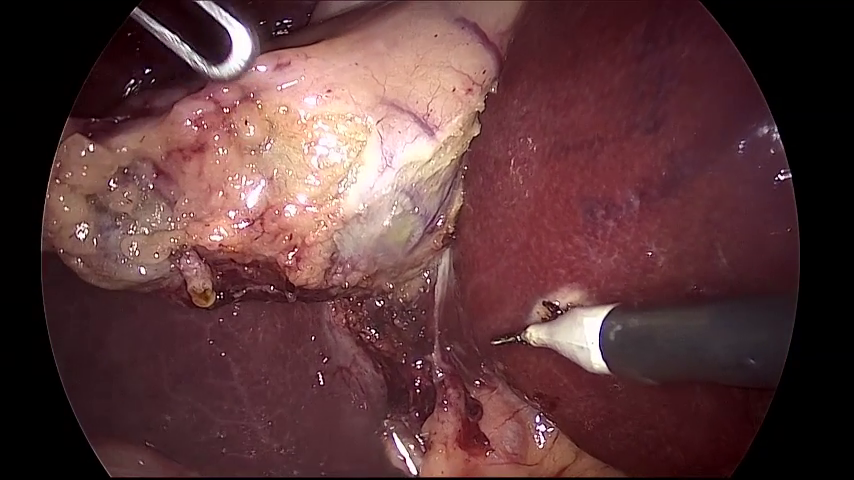grasper: (129, 1, 260, 81)
lhook: (491, 298, 797, 390)
